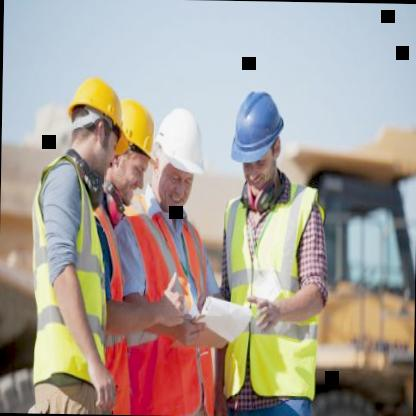helmet: (62, 68, 126, 180), (148, 104, 206, 217), (95, 86, 154, 195), (228, 83, 286, 192)
